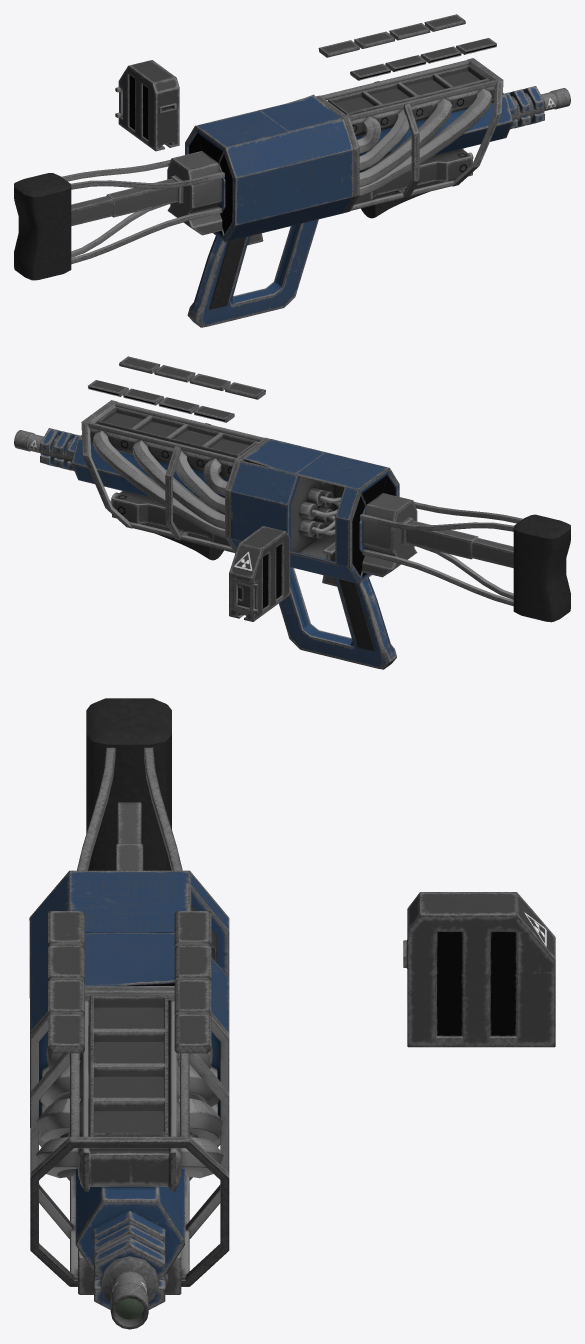
Rendered from SM_LaserGun_Exploded.fbx.
3 views of the same model, one above another, from view 1: azimuth 30°, elevation 25°; view 2: azimuth 150°, elevation 25°; view 3: azimuth 270°, elevation 25° (orthographic). The views are drawn at different scales.
Parts seen in each view (by area): view 1: Base - Case, Cube.011, Cube.010, Pipes, Grip, Cube.009, Vents, Vents - Base, Cube.006, Cube.002, Cylinder.003, Cube.012 (+4 smaller); view 2: Cube.011, Base - Case, Cube.010, Pipes, Grip, Cube.009, Vents, Vents - Base, Cube.006, Cube.002, Cylinder.003, Cube.012 (+4 smaller); view 3: Cube.011, Base - Case, Vents - Base, Cube.010, Vents, Pipes, Cylinder.003, Bent Metal, Cube.009, Cube.006, Cube.012, Cube.003 (+1 smaller).
Part boxes in pixels (x1,y1,x2,y2): Base - Case: [185, 106, 353, 241]; Cube.011: [115, 58, 570, 235]; Cube.010: [14, 173, 71, 280]; Pipes: [357, 88, 491, 196]; Grip: [187, 219, 318, 327]; Cube.009: [61, 159, 224, 264]; Vents: [318, 14, 496, 80]; Vents - Base: [327, 65, 488, 115]; Cube.006: [71, 178, 178, 226]; Cube.002: [354, 149, 472, 203]; Cylinder.003: [356, 93, 513, 172]; Cube.012: [320, 60, 497, 120]; Cube.011: [14, 400, 417, 621]; Base - Case: [231, 439, 399, 583]; Cube.010: [513, 514, 570, 622]; Pipes: [93, 430, 227, 538]; Grip: [279, 567, 396, 669]; Cube.009: [360, 501, 523, 606]; Vents: [88, 356, 265, 422]; Vents - Base: [96, 406, 257, 457]; Cube.006: [406, 520, 513, 568]; Cube.002: [112, 491, 229, 545]; Cylinder.003: [71, 435, 228, 514]; Cube.012: [87, 402, 263, 462]; Cube.011: [30, 892, 555, 1329]; Base - Case: [29, 870, 229, 1127]; Vents - Base: [90, 995, 168, 1136]; Cube.010: [86, 698, 171, 870]; Vents: [48, 911, 211, 1053]; Pipes: [36, 1044, 223, 1178]; Cylinder.003: [75, 1168, 184, 1274]; Bent Metal: [84, 933, 174, 985]; Cube.009: [77, 747, 182, 870]; Cube.006: [116, 802, 143, 870]; Cube.012: [70, 1053, 189, 1136]; Cube.003: [70, 1174, 189, 1277].
Size of the model in its own units: 78.01 by 32.51 by 31.06.
Materials: 1 (1 with a texture image).
